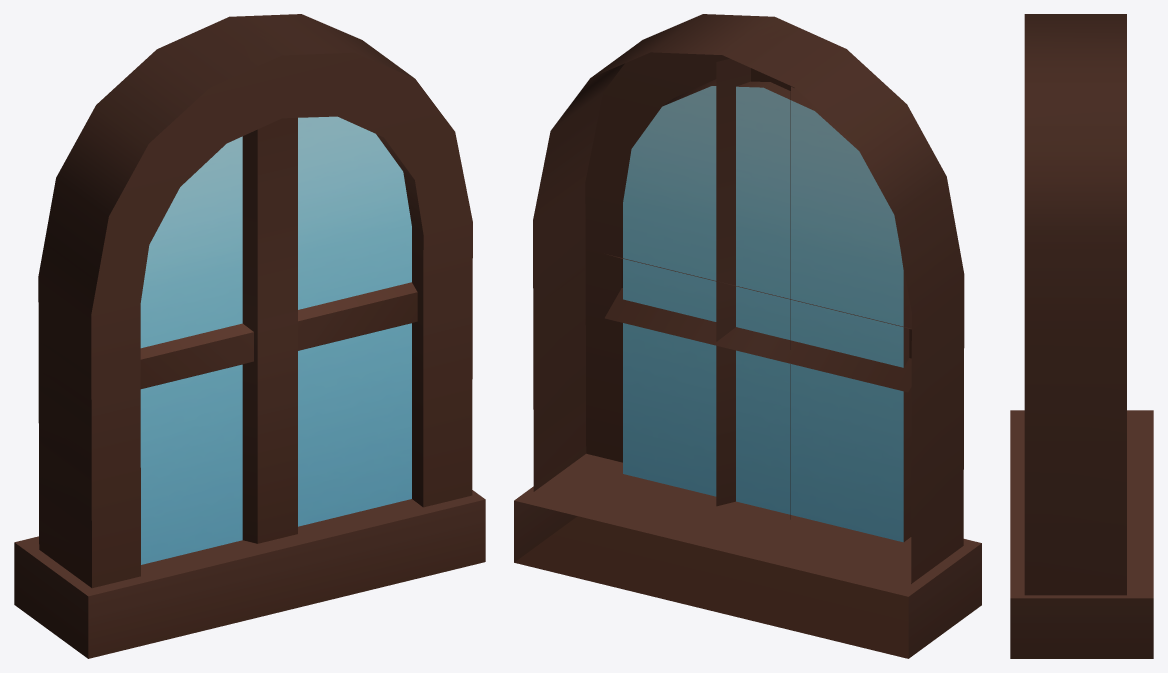
Rendered from Window_01C.fbx.
The picture shows the model from 3 angles, left to right: view 1: azimuth 30°, elevation 25°; view 2: azimuth 150°, elevation 25°; view 3: azimuth 270°, elevation 25°; orthographic projection. The views are drawn at different scales.
Parts seen in each view (by area): view 1: Window_01C; view 2: Window_01C; view 3: Window_01C.
Part boxes in pixels (bbox=[...]): Window_01C: bbox=[14, 14, 485, 658]; Window_01C: bbox=[514, 14, 981, 658]; Window_01C: bbox=[1010, 14, 1153, 658].
Bounding box in the file's own units: 113 × 149 × 36.42.
Materials: 2 (2 with a texture image).
